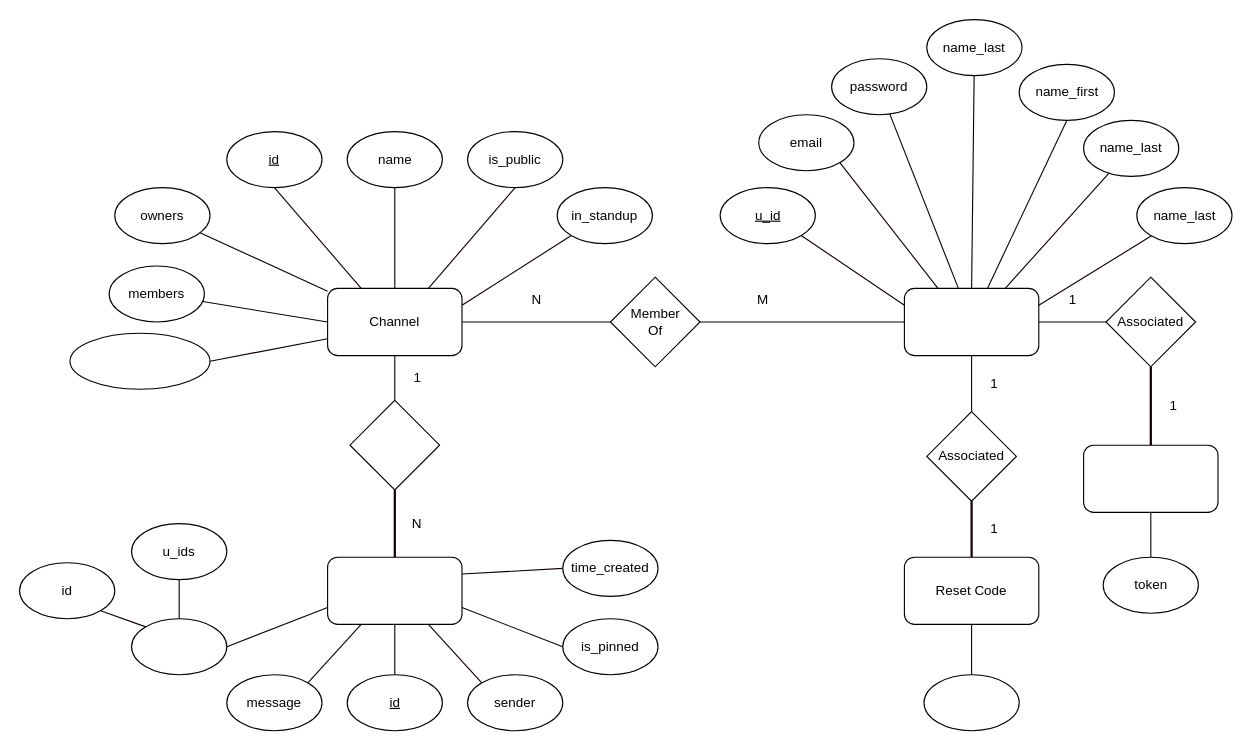
The diagram is 1252 pixels wide and 750 high, and some of its shapes have lost their labels. The shapes that lost their labels are listed below. From the top down, each one's centre as x and y in pixels, then its label:
At (x=971, y=321): "User".
At (x=139, y=360): "standup_messages".
At (x=394, y=444): "Contains".
At (x=1150, y=478): "Token (Logged in)".
At (x=394, y=590): "Messages".
At (x=178, y=646): "reacts".
At (x=971, y=702): "reset_code".
